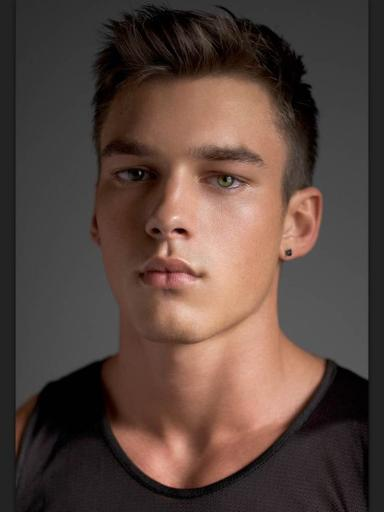left_eye: (201, 170, 254, 195)
left_lip_corner: (195, 268, 211, 288)
right_eye: (111, 167, 160, 190)
right_lip_corner: (133, 268, 147, 287)
